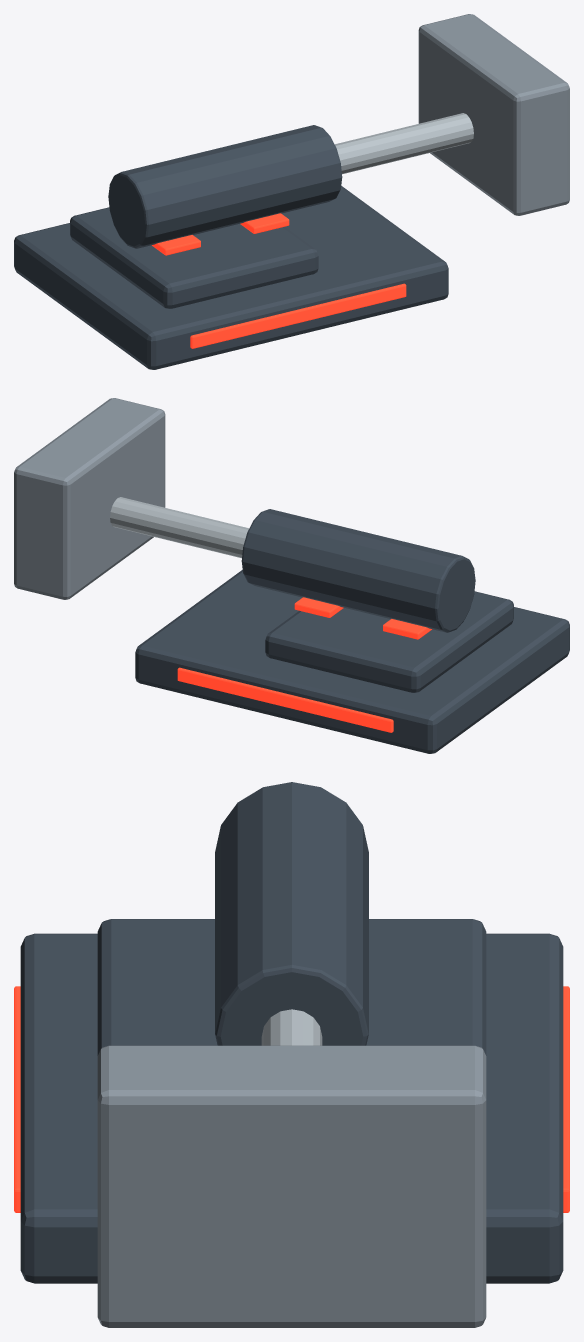
The model's file is PistaoHorizontal.fbx.
3 renders of one model, top to bottom at view 1: azimuth 30°, elevation 25°; view 2: azimuth 150°, elevation 25°; view 3: azimuth 270°, elevation 25°, orthographic. The views are drawn at different scales.
Parts seen in each view (by area): view 1: Pistao_BaseFixa, Pistao_CabecaImpacto, Pistao_Cilindro, Pistao_LuzesAdvertencia, Pistao_Haste; view 2: Pistao_BaseFixa, Pistao_CabecaImpacto, Pistao_Cilindro, Pistao_LuzesAdvertencia, Pistao_Haste; view 3: Pistao_CabecaImpacto, Pistao_BaseFixa, Pistao_Cilindro, Pistao_LuzesAdvertencia, Pistao_Haste.
Part boxes in pixels (box(x1,y1,x2,y2)): Pistao_BaseFixa: box(14, 186, 448, 369); Pistao_CabecaImpacto: box(418, 14, 569, 215); Pistao_Cilindro: box(108, 125, 342, 248); Pistao_LuzesAdvertencia: box(152, 213, 406, 348); Pistao_Haste: box(334, 113, 473, 174); Pistao_BaseFixa: box(135, 570, 569, 753); Pistao_CabecaImpacto: box(14, 398, 165, 599); Pistao_Cilindro: box(241, 509, 475, 632); Pistao_LuzesAdvertencia: box(177, 597, 431, 732); Pistao_Haste: box(110, 497, 249, 558); Pistao_CabecaImpacto: box(97, 1045, 486, 1327); Pistao_BaseFixa: box(20, 919, 563, 1283); Pistao_Cilindro: box(215, 782, 368, 1045); Pistao_LuzesAdvertencia: box(14, 986, 569, 1212); Pistao_Haste: box(261, 1009, 322, 1045).
Bounding box in the file's own units: 220 × 80 × 123.
